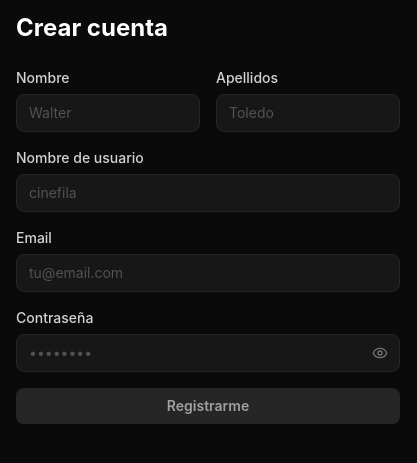
Scenario: AuthForm field validation › says nothing about a half-typed email until the field is left
Type "walter@" into the field labelled "Email".
click(208, 273); type("walter@")  # box [16,254,400,292]
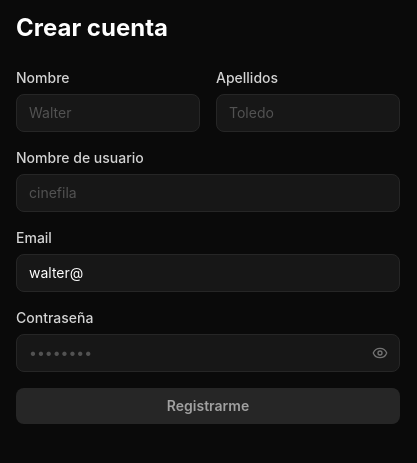
Expected: the text "Email no es válido" is not shown
Leave the field labelled "Email", box [16,254,400,292]
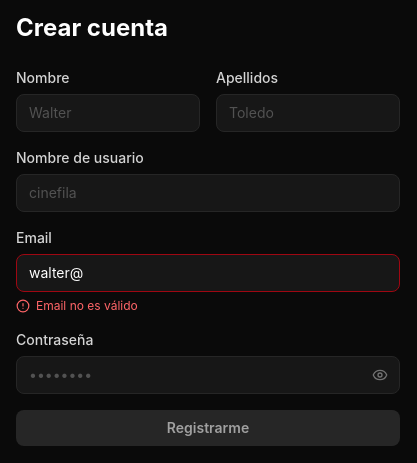
Expected: the text "Email no es válido" is shown, [16,298,138,313]
